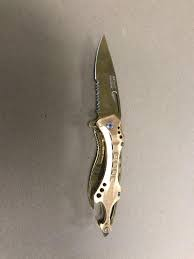knife: (85, 30, 126, 241)
